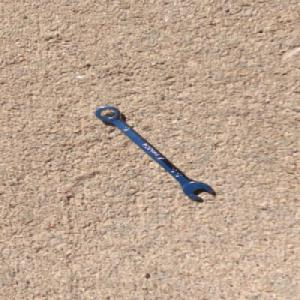Wrench: (93, 105, 215, 200)
